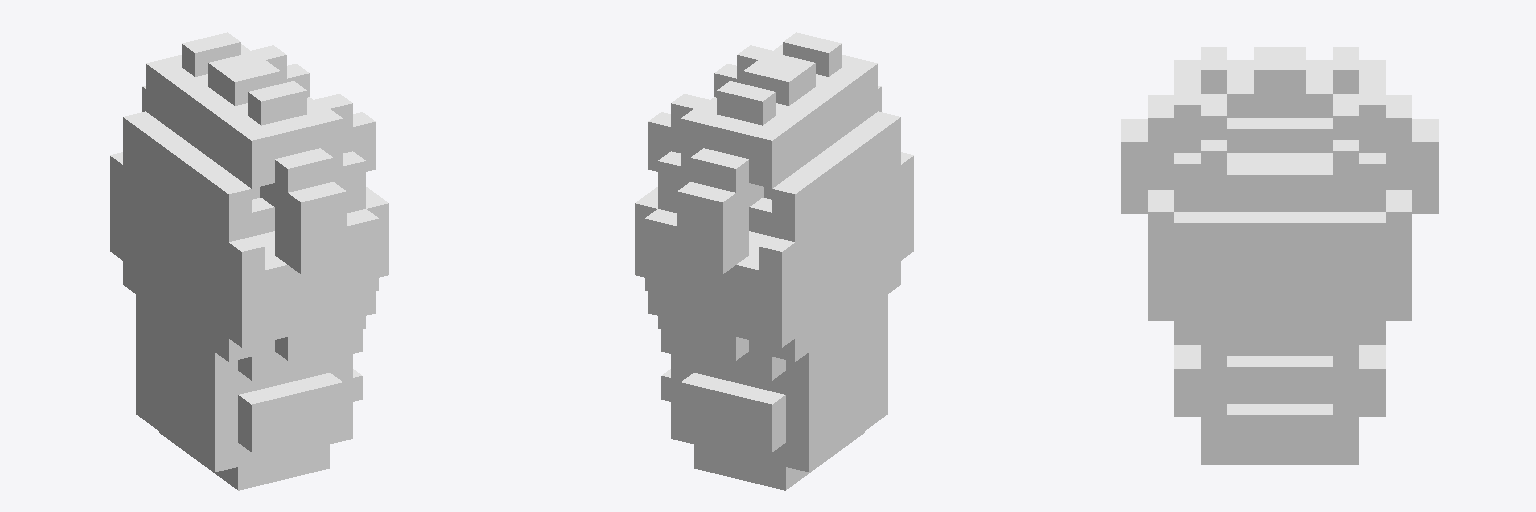
Rendered from Trevor-6.obj.
3 views of the same model, side by side, from view 1: azimuth 30°, elevation 25°; view 2: azimuth 150°, elevation 25°; view 3: azimuth 270°, elevation 25° (orthographic).
Parts seen in each view (by area): view 1: object 1; view 2: object 1; view 3: object 1.
Part boxes in pixels (x1,y1,x2,y2): object 1: (110, 32, 388, 490); object 1: (635, 32, 913, 490); object 1: (1121, 47, 1438, 464).
Size of the model in its own units: 0.7 by 1.6 by 1.2.